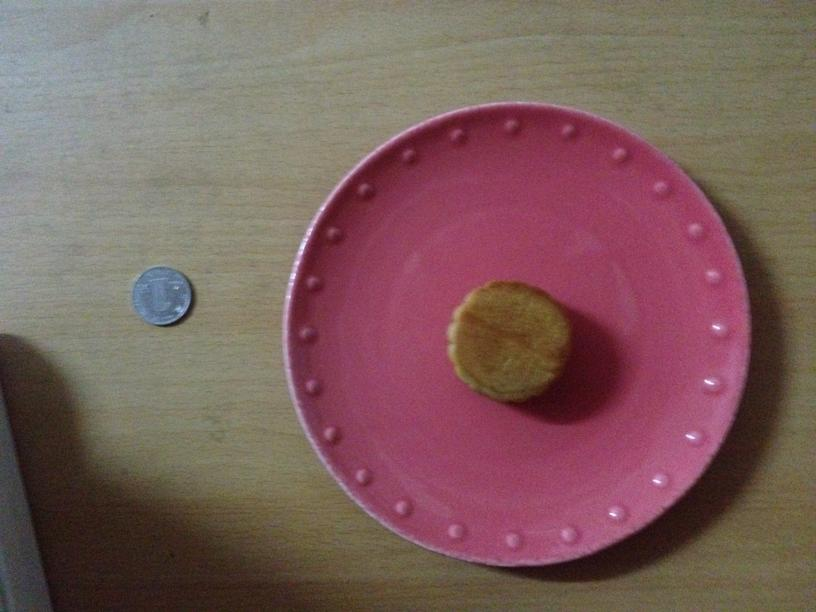coin: (131, 266, 193, 326)
mooncake: (442, 283, 571, 399)
